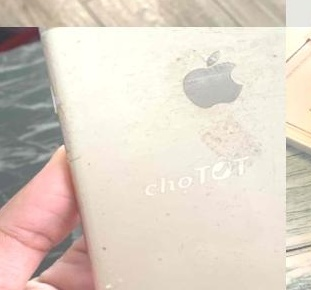scratch: (137, 27, 286, 195), (74, 226, 173, 290)
